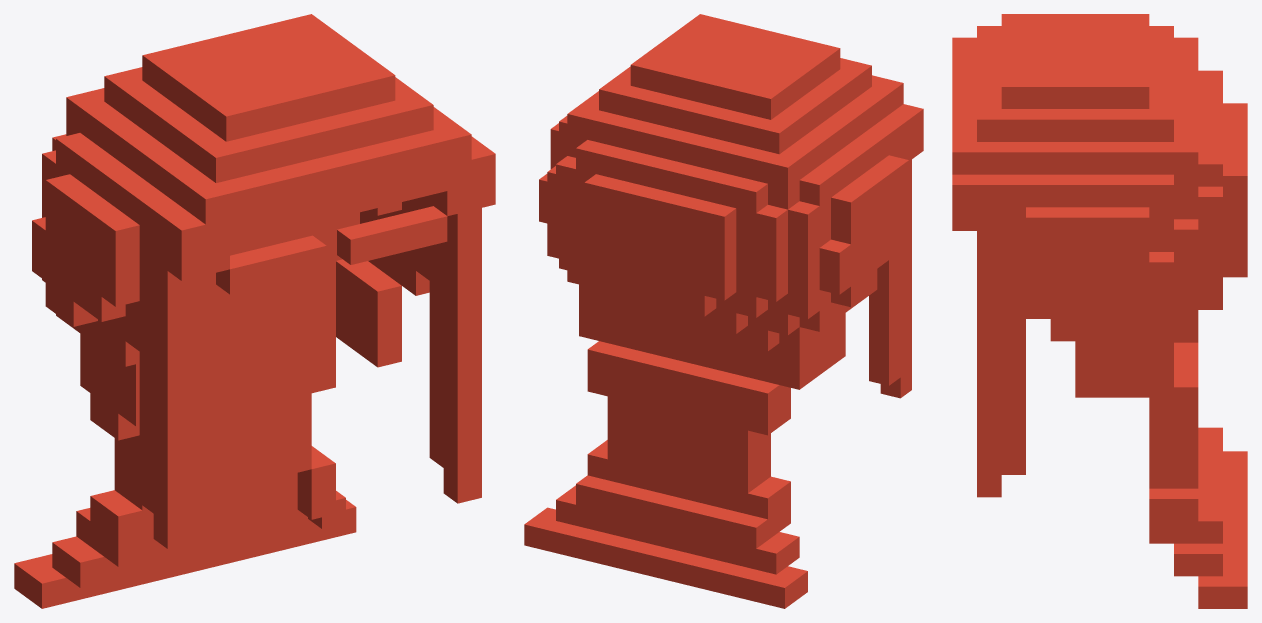
The model's file is Union_21.fbx.
The picture shows the model from 3 angles, left to right: view 1: azimuth 30°, elevation 25°; view 2: azimuth 150°, elevation 25°; view 3: azimuth 270°, elevation 25°; orthographic projection. The views are drawn at different scales.
Parts seen in each view (by area): view 1: Union_21; view 2: Union_21; view 3: Union_21.
Boxes of the visible parts, x1,y1,x2,y2 form: Union_21: [14, 14, 495, 608]; Union_21: [524, 14, 923, 608]; Union_21: [952, 14, 1247, 608].
Size of the model in its own units: 15 by 22 by 12.
1 material, 1 textured.
